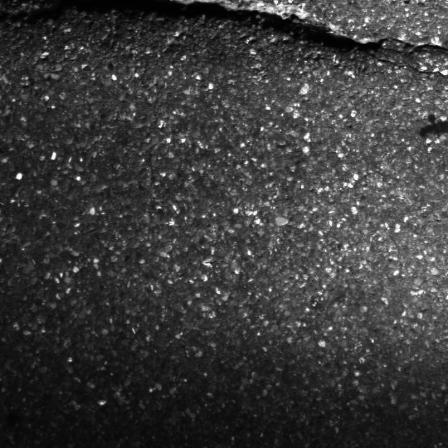crack: (0, 0, 448, 83)
